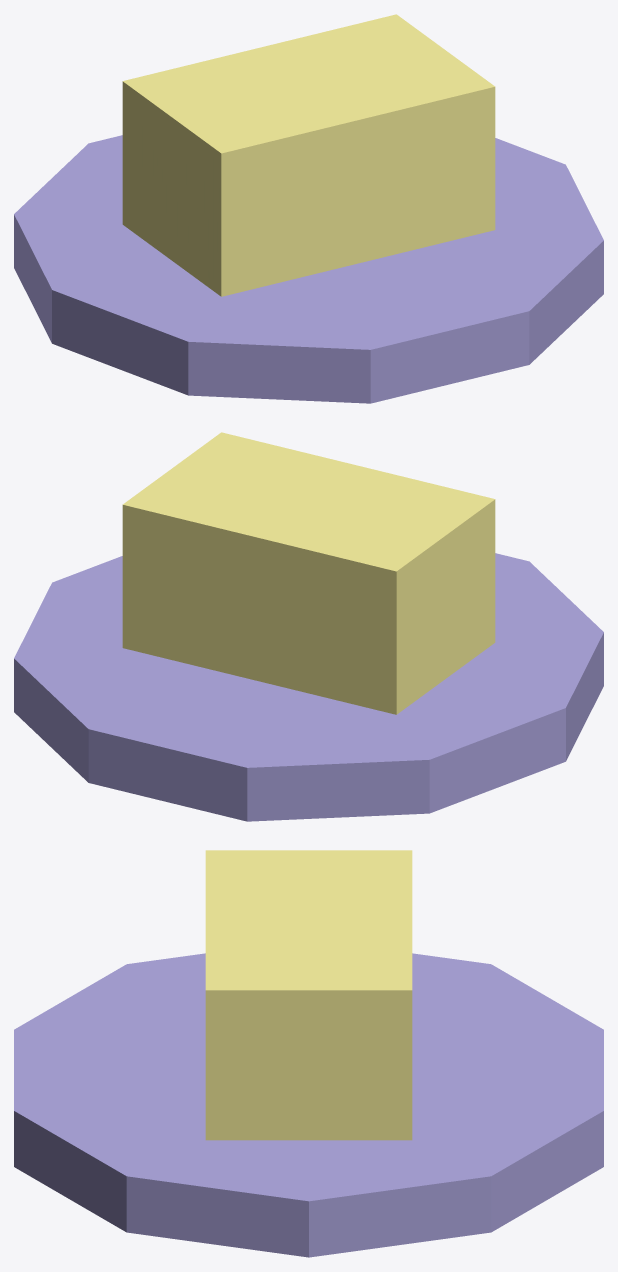
The model's file is butter.glb.
3 renders of one model, top to bottom at view 1: azimuth 30°, elevation 25°; view 2: azimuth 150°, elevation 25°; view 3: azimuth 270°, elevation 25°, orthographic. The views are drawn at different scales.
Parts seen in each view (by area): view 1: Dish, Block; view 2: Dish, Block; view 3: Dish, Block.
Part boxes in pixels (<box>): Dish: <box>14,135,603,403</box>; Block: <box>122,14,495,296</box>; Dish: <box>14,553,603,821</box>; Block: <box>122,432,495,714</box>; Dish: <box>14,953,603,1257</box>; Block: <box>205,850,412,1140</box>.
Bounding box in the file's own units: 0.6 × 0.22 × 0.5706.
